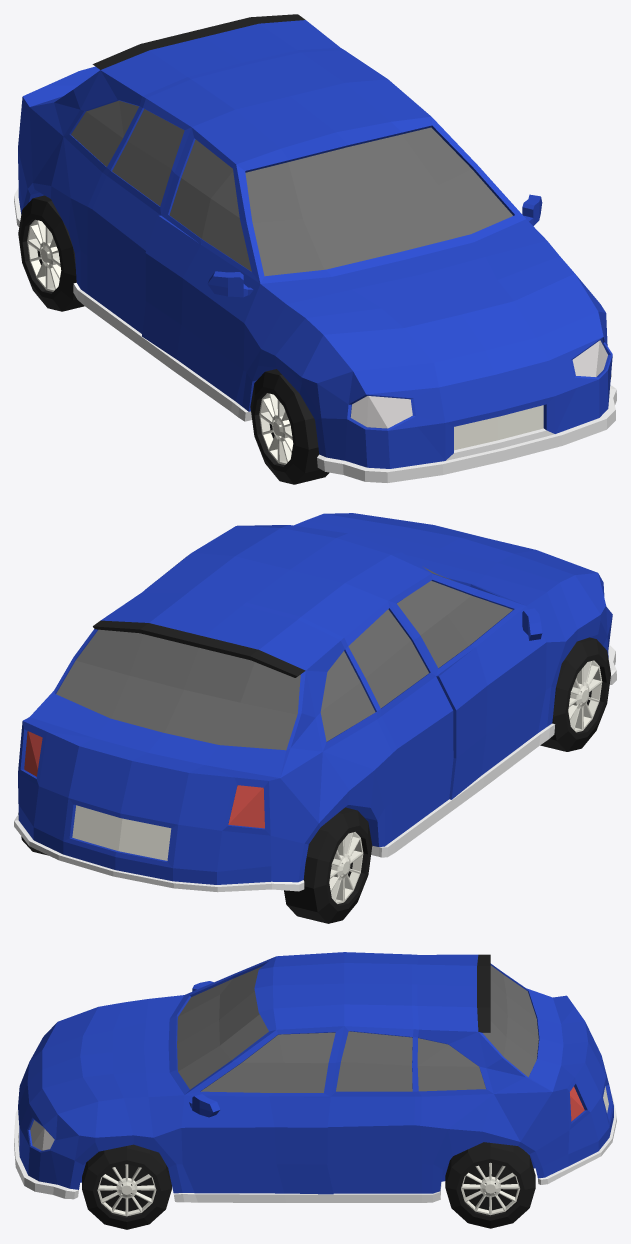
Rendered from car1.glb.
The picture shows the model from 3 angles, top to bottom: view 1: azimuth 30°, elevation 25°; view 2: azimuth 150°, elevation 25°; view 3: azimuth 270°, elevation 25°; orthographic projection. The views are drawn at different scales.
Visible parts, largest first — view 1: NormalCar2, NormalCar2_FrontRightWheel, NormalCar2_BackWheels; view 2: NormalCar2, NormalCar2_BackWheels, NormalCar2_FrontRightWheel; view 3: NormalCar2, NormalCar2_BackWheels, NormalCar2_FrontLeftWheel.
Boxes of the visible parts, <box> form: NormalCar2: <box>14,14,616,482</box>; NormalCar2_FrontRightWheel: <box>250,369,329,484</box>; NormalCar2_BackWheels: <box>18,195,84,311</box>; NormalCar2: <box>14,513,616,892</box>; NormalCar2_BackWheels: <box>18,807,372,923</box>; NormalCar2_FrontRightWheel: <box>540,637,610,751</box>; NormalCar2: <box>14,952,616,1202</box>; NormalCar2_BackWheels: <box>445,1142,535,1228</box>; NormalCar2_FrontLeftWheel: <box>82,1144,171,1229</box>.
Bounding box in the file's own units: 1.64 × 1.15 × 3.31.
